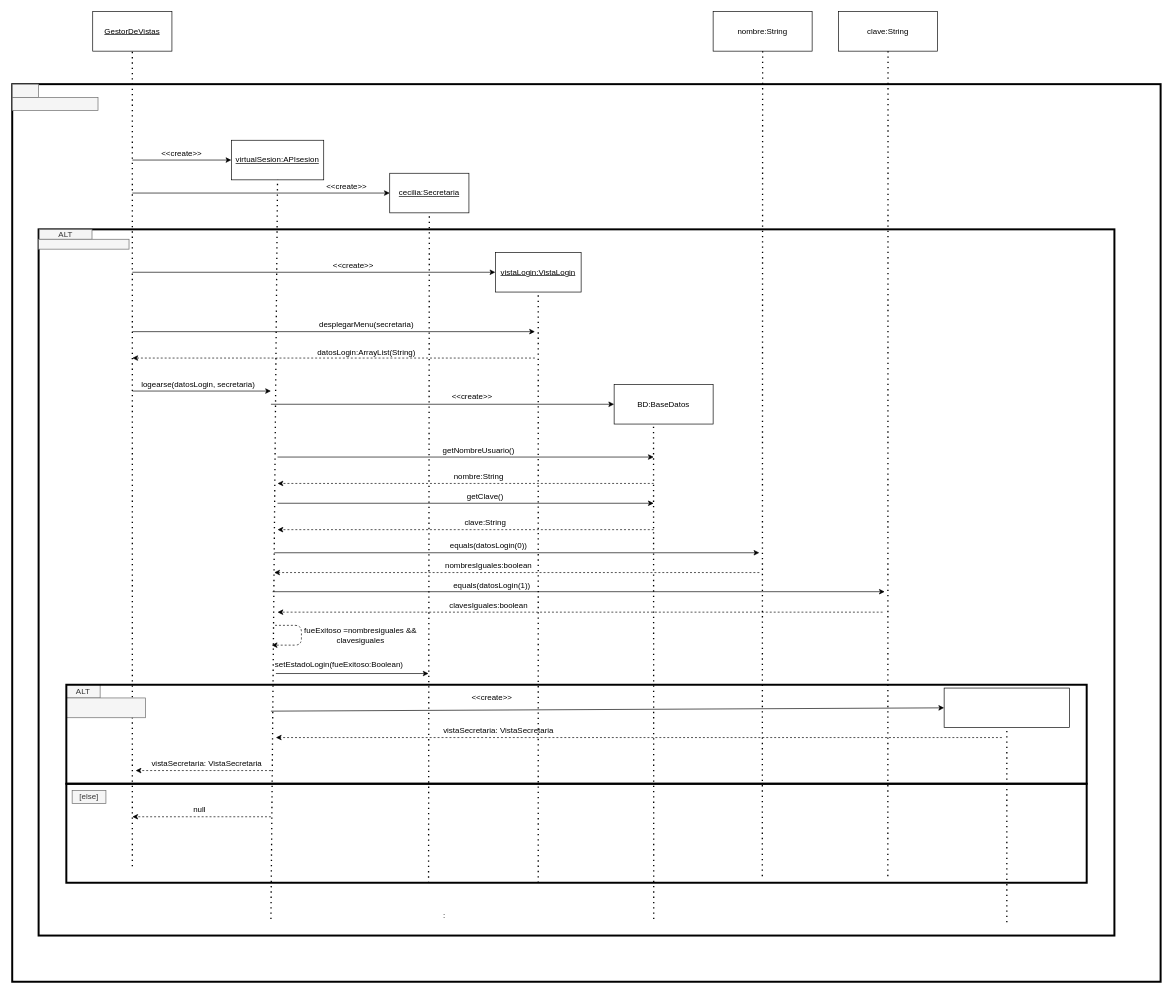
This 1173x994 diagram has some shape labels left out. The shapes that lost their labels are listed below. From the top down, each one's centre as x and y in pixels, then its label:
the point at 25,90: LOOP
the point at 55,104: [pagina==true]
the point at 83,244: [eleccion == 1]
the point at 106,707: [fueExitoso == true]
the point at 1006,707: vistaSecretaria:VistaSecretaria
